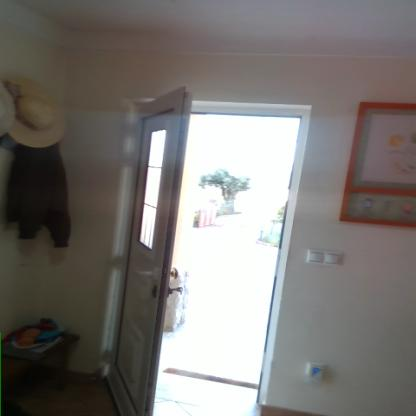semi: (119, 85, 321, 412)
